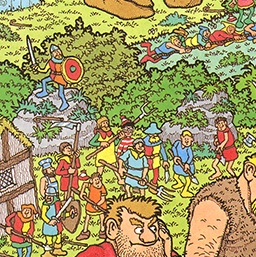waldo: (121, 118, 135, 139)
